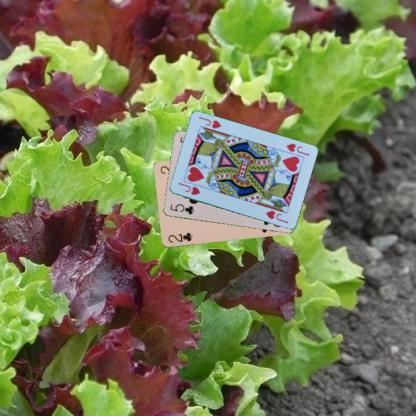2c: (165, 230, 194, 244)
5c: (168, 202, 195, 216)
Jh: (284, 141, 310, 157), (176, 180, 201, 196)
